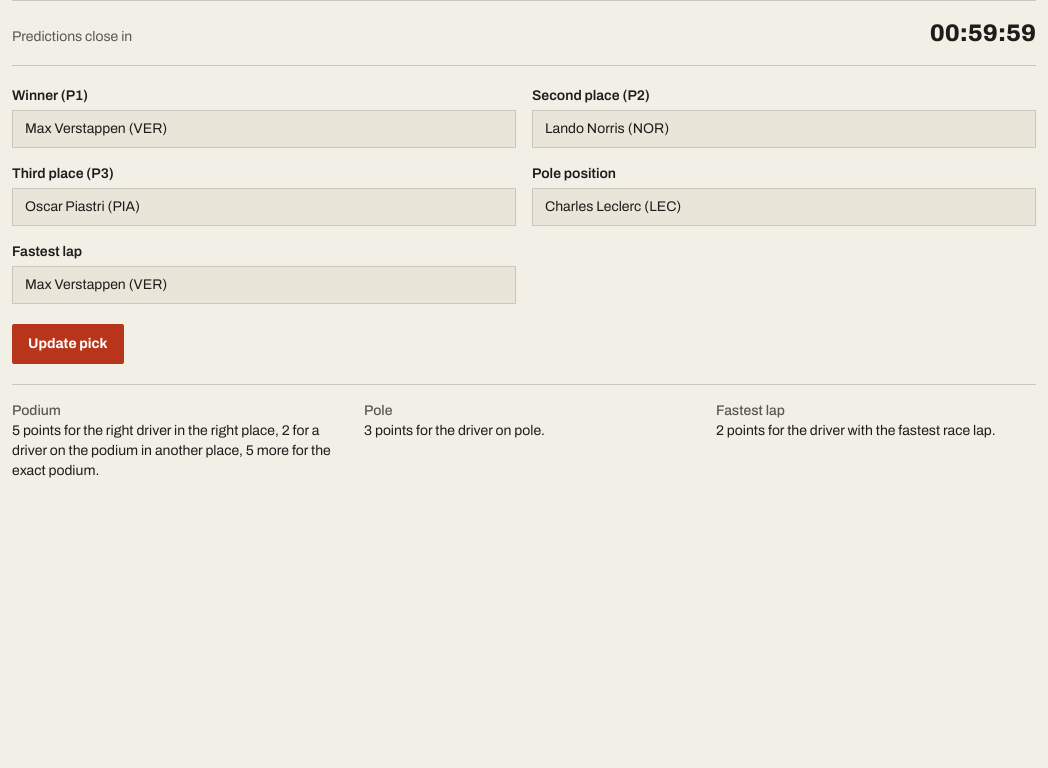
pick form › shows the lock message when the server answers 403 on save
The image size is (1048, 768).
Click the button "Update pick" at (68, 344), box [12,324,124,364]
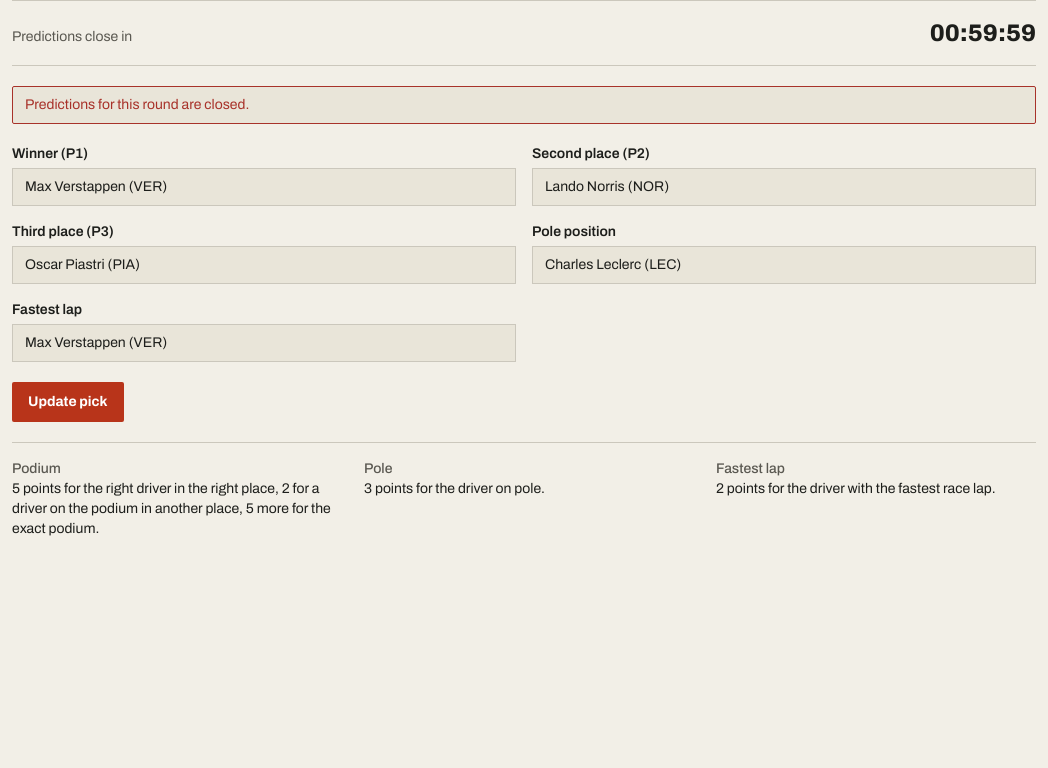
expect the message reads "Predictions for this round are closed.": met, box [25,97,249,112]
